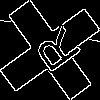R: (25, 25, 83, 81)
